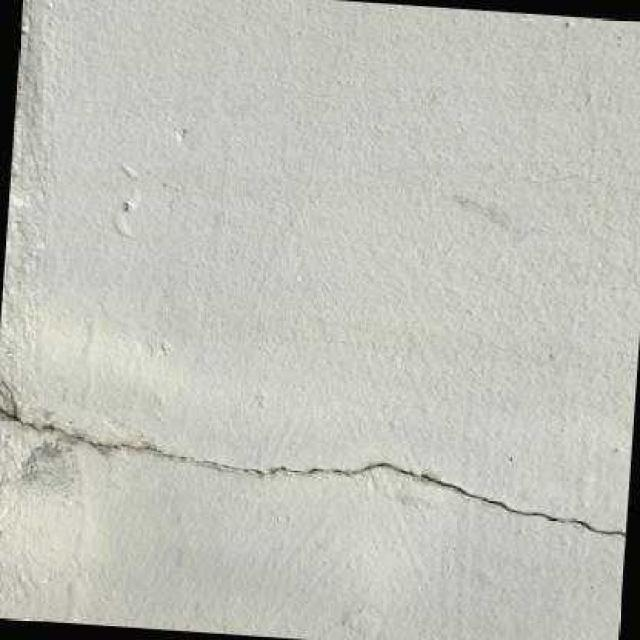D00: (0, 410, 625, 537)
